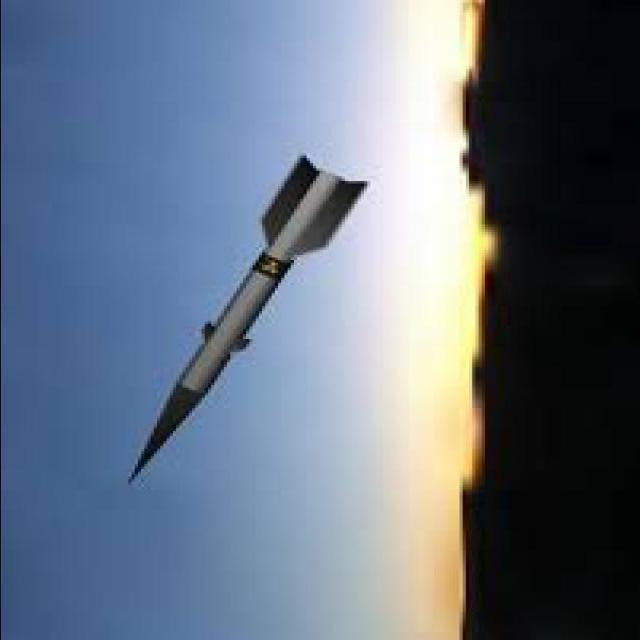missile: (122, 155, 366, 487)
